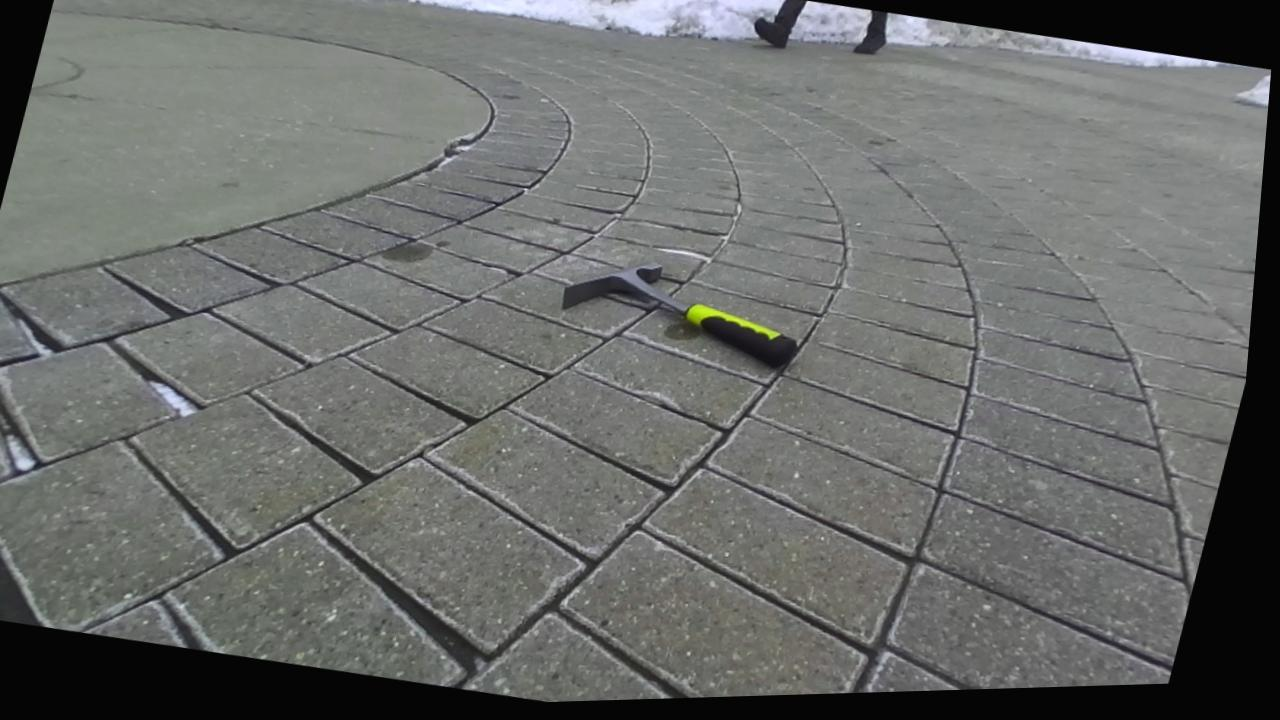pick: (561, 264, 797, 365)
